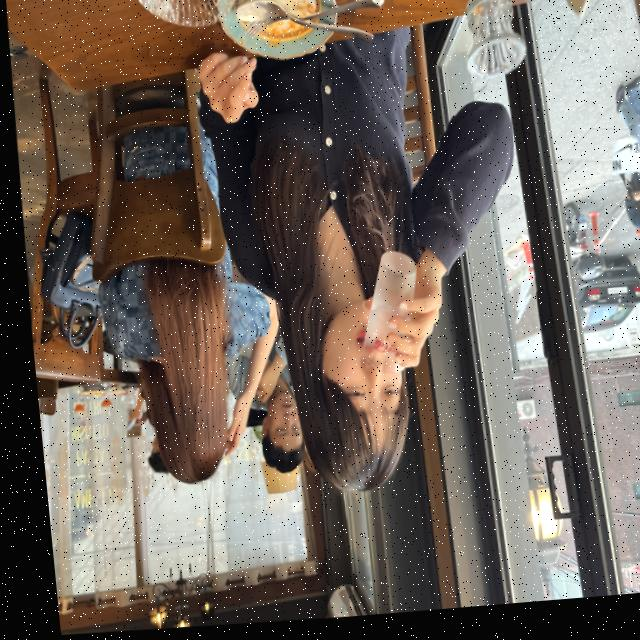eating-person: (172, 13, 544, 529)
